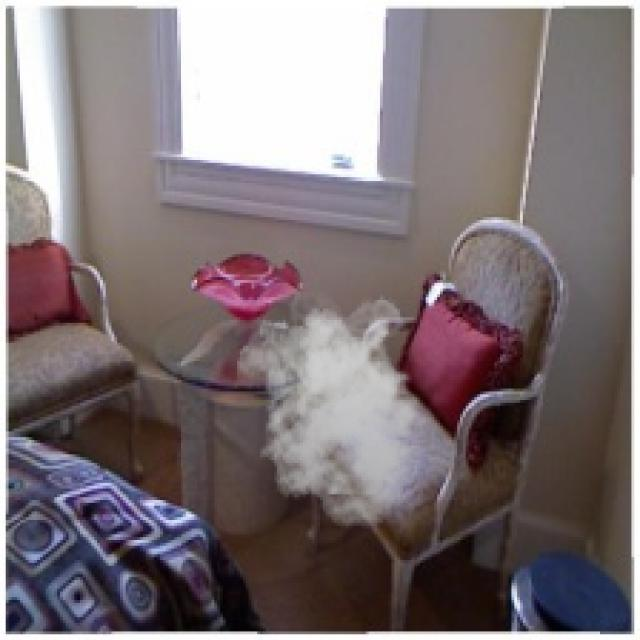smoke: (237, 292, 440, 528)
